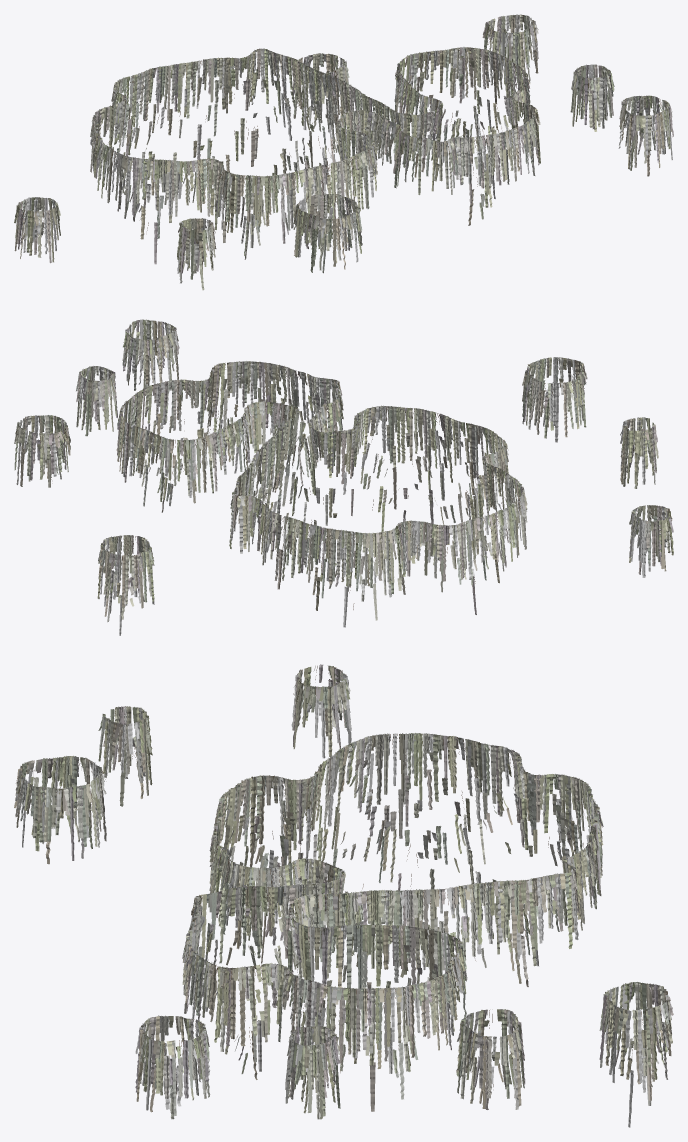
Rendered from SM_H06_Vines.fbx.
The picture shows the model from 3 angles, top to bottom: view 1: azimuth 30°, elevation 25°; view 2: azimuth 150°, elevation 25°; view 3: azimuth 270°, elevation 25°; orthographic projection. The views are drawn at different scales.
Visible parts, largest first — view 1: SM_H06_Vines; view 2: SM_H06_Vines; view 3: SM_H06_Vines.
Part boxes in pixels (<box>): SM_H06_Vines: <box>14,14,673,290</box>; SM_H06_Vines: <box>14,319,673,635</box>; SM_H06_Vines: <box>14,664,673,1127</box>.
Size of the model in its own units: 324 by 83.24 by 233.
